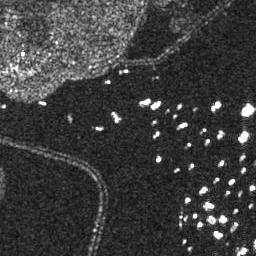ship: (210, 100, 222, 113), (238, 131, 250, 144), (236, 245, 247, 256), (150, 100, 162, 110), (177, 121, 189, 131), (201, 202, 216, 210), (213, 229, 223, 241), (111, 111, 121, 122), (138, 97, 150, 106), (93, 125, 105, 133), (118, 68, 131, 75), (199, 185, 208, 195), (230, 222, 239, 232), (217, 129, 225, 140), (154, 155, 163, 163), (66, 114, 73, 124), (153, 131, 161, 139), (239, 154, 247, 162), (228, 177, 236, 185), (218, 159, 225, 168), (182, 197, 192, 203), (174, 166, 181, 174), (38, 100, 47, 106), (203, 138, 210, 145), (249, 184, 256, 191), (213, 176, 219, 184), (189, 162, 195, 170), (241, 167, 247, 174), (177, 102, 182, 110), (225, 190, 231, 196), (105, 79, 111, 84), (1, 104, 8, 108)
